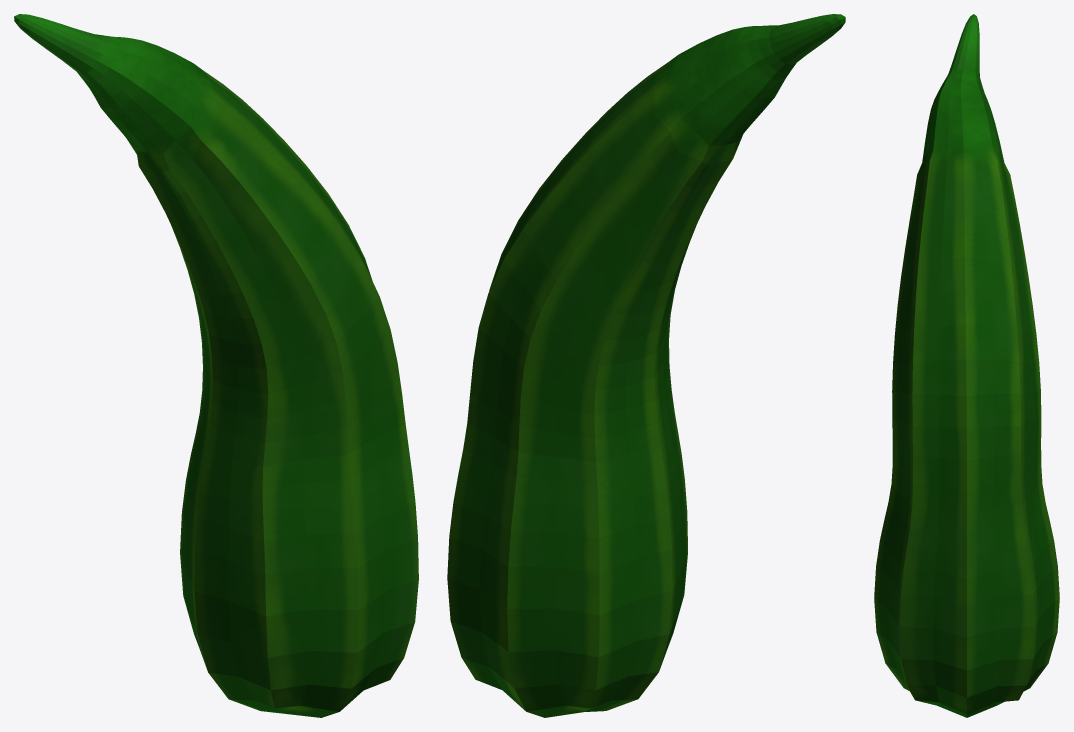
Rendered from Patola.glb.
The picture shows the model from 3 angles, left to right: view 1: azimuth 30°, elevation 25°; view 2: azimuth 150°, elevation 25°; view 3: azimuth 270°, elevation 25°; orthographic projection. The views are drawn at different scales.
Visible parts, largest first — view 1: Cube; view 2: Cube; view 3: Cube.
Part boxes in pixels (bbox=[...]): Cube: bbox=[14, 14, 418, 717]; Cube: bbox=[447, 14, 845, 717]; Cube: bbox=[874, 14, 1059, 717].
Bounding box in the file's own units: 3.62 × 6.81 × 1.94.
1 material, 1 textured.
